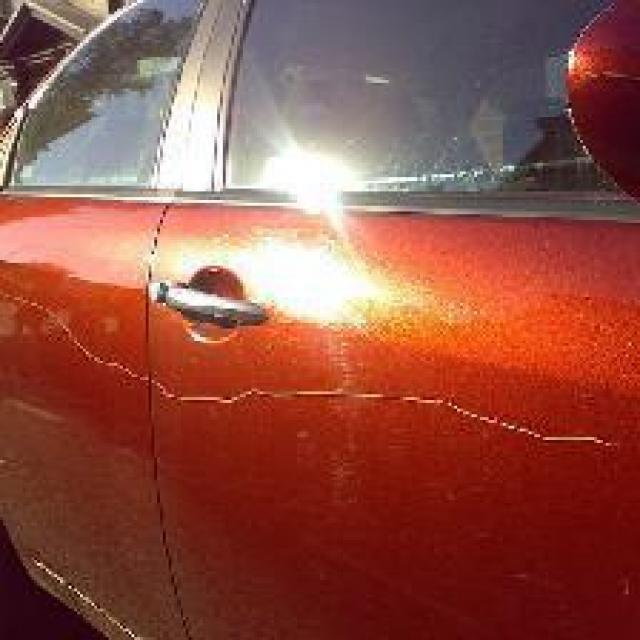damaged: (0, 292, 620, 454)
